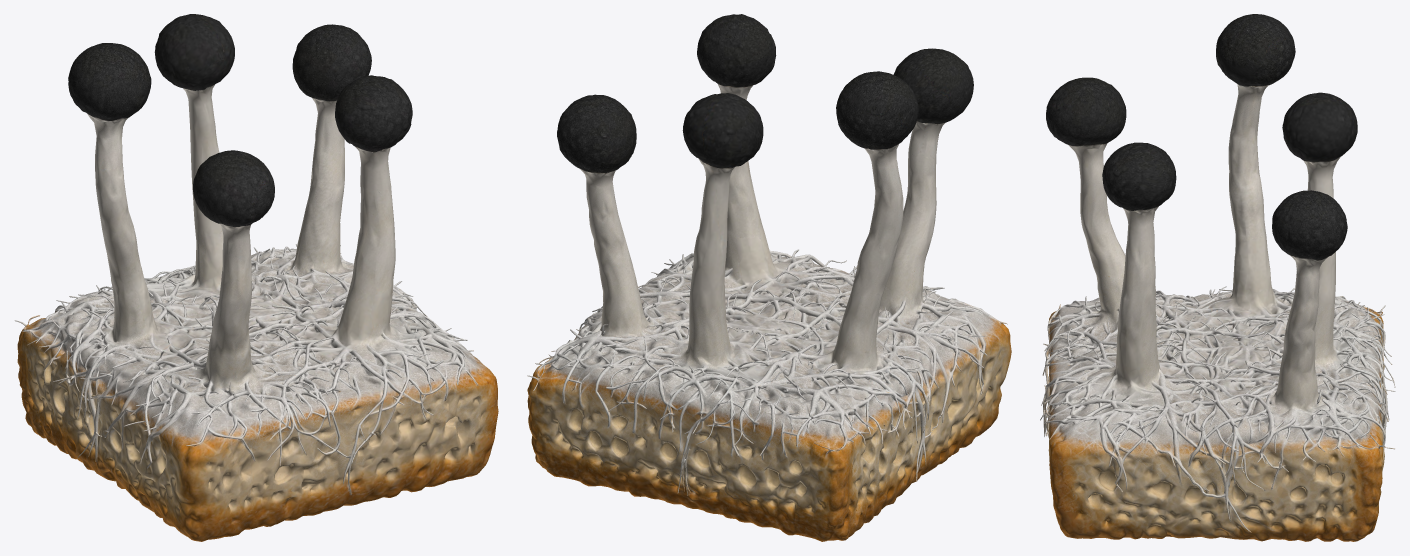
The model's file is bread-mold.glb.
3 renders of one model, left to right at view 1: azimuth 30°, elevation 25°; view 2: azimuth 150°, elevation 25°; view 3: azimuth 270°, elevation 25°, orthographic. The views are drawn at different scales.
Size of the model in its own units: 1.64 by 1.9 by 1.54.
Materials: 1 (1 with a texture image).
